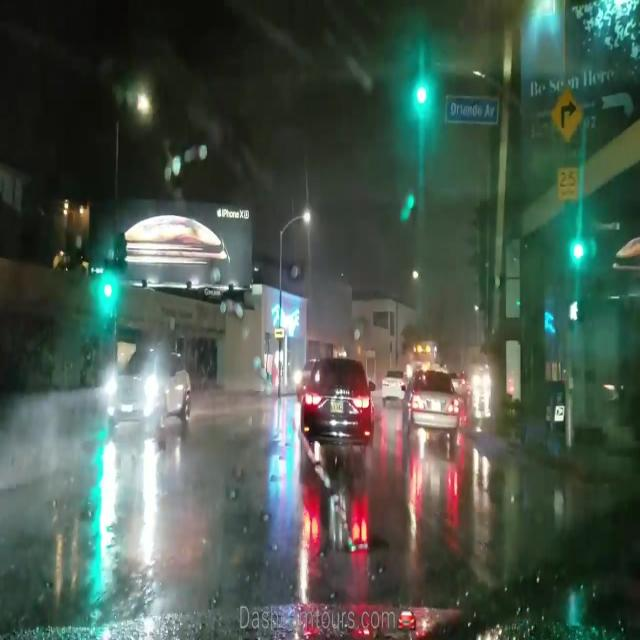Car: (102, 349, 188, 442), (301, 357, 373, 459), (401, 371, 454, 436), (380, 370, 405, 401)
